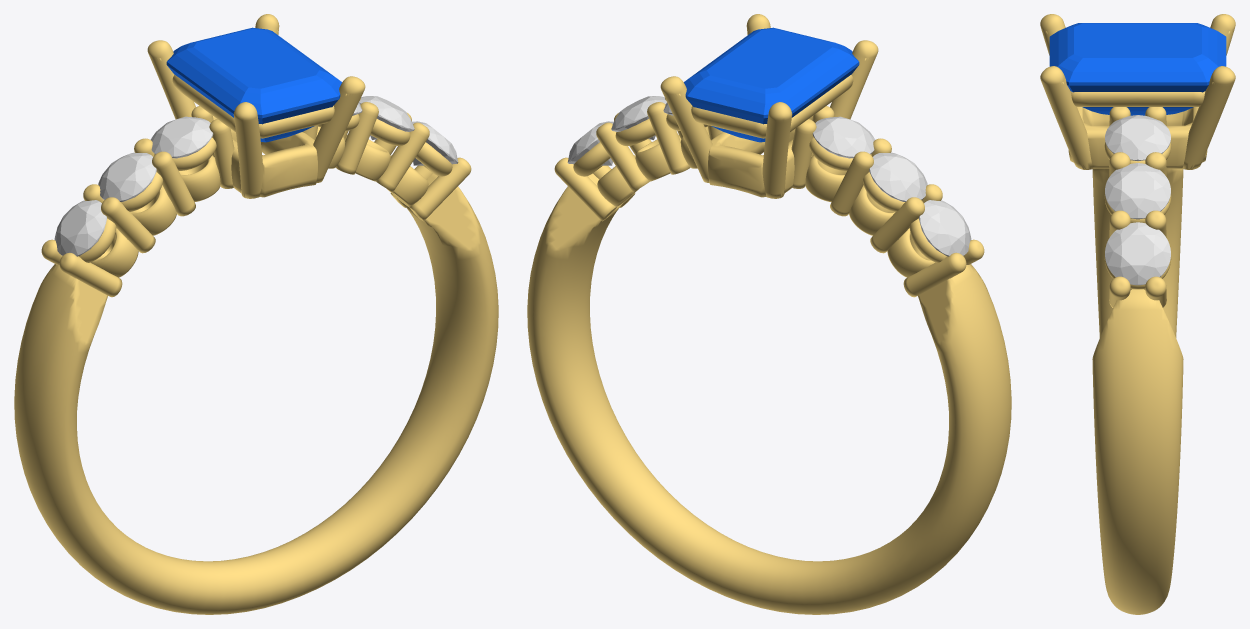
File: bluesapphire-emerald-yellowgold-4prong-taperedband-7stone.glb
3 renders of one model, left to right at view 1: azimuth 30°, elevation 25°; view 2: azimuth 150°, elevation 25°; view 3: azimuth 270°, elevation 25°, orthographic.
Visible parts, largest first — view 1: metal, stone, side, side.001, side.002, side.004, side.005; view 2: metal, stone, side, side.001, side.002, side.004, side.005; view 3: metal, stone, side.005, side.004, side.003.
Part boxes in pixels (x1,y1,x2,y2): metal: (14,14,498,614); stone: (166,27,341,142); side: (54,200,106,256); side.001: (98,152,156,201); side.002: (150,116,213,158); side.004: (359,96,414,139); side.005: (412,121,458,165); metal: (527,14,1011,614); stone: (684,27,859,142); side: (919,200,971,256); side.001: (869,152,927,201); side.002: (812,116,875,158); side.004: (611,96,666,139); side.005: (567,121,613,165); metal: (1040,14,1235,614); stone: (1049,23,1226,115); side.005: (1105,222,1170,285); side.004: (1105,163,1170,219); side.003: (1105,115,1170,160).
Size of the model in its own units: 20.49 by 22.94 by 7.4.
